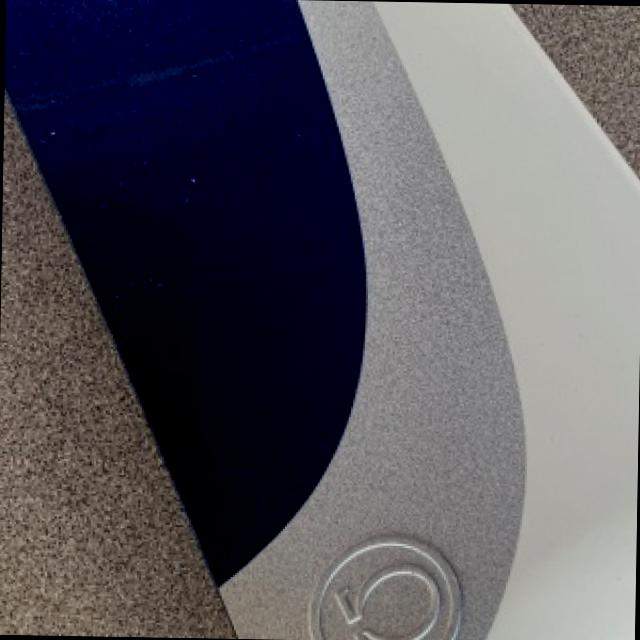healthy: (0, 97, 229, 636)
